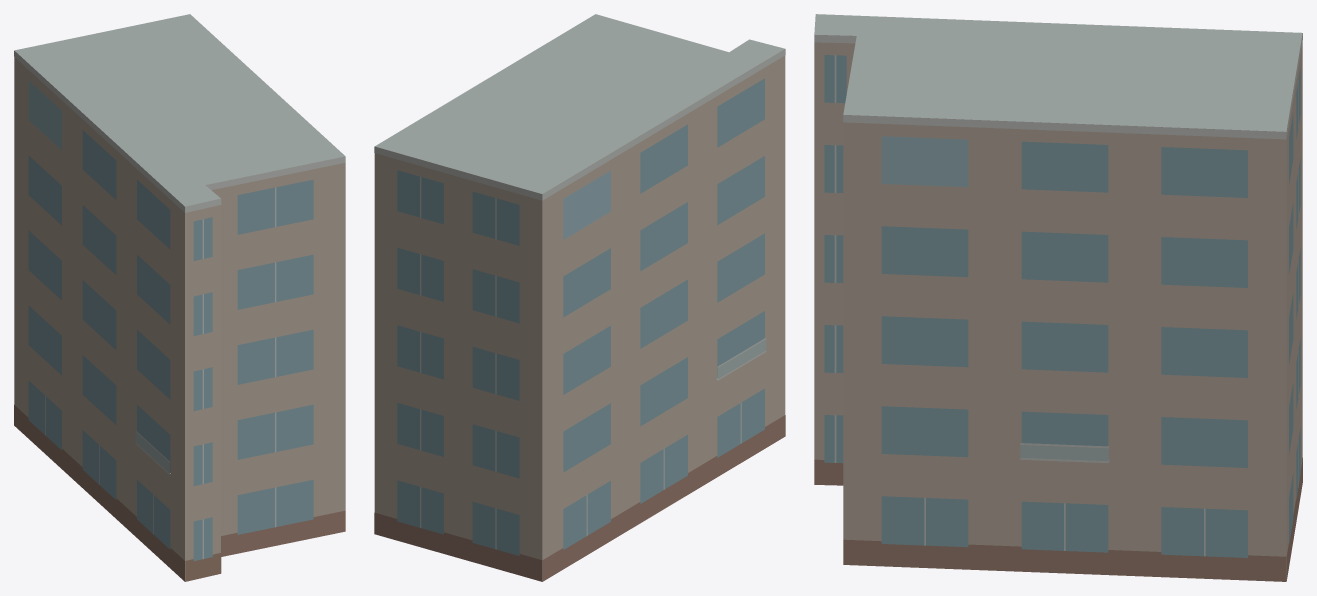
Rendered from survey-upis-32750276.glb.
3 renders of one model, left to right at view 1: azimuth 30°, elevation 25°; view 2: azimuth 150°, elevation 25°; view 3: azimuth 270°, elevation 25°, orthographic. The views are drawn at different scales.
Visible parts, largest first — view 1: survey-upis-32750276.tmp; view 2: survey-upis-32750276.tmp; view 3: survey-upis-32750276.tmp.
Boxes of the visible parts, x1,y1,x2,y2 form: survey-upis-32750276.tmp: (14, 14, 345, 581); survey-upis-32750276.tmp: (374, 14, 785, 581); survey-upis-32750276.tmp: (814, 14, 1302, 581).
Size of the model in its own units: 8.21 by 14.6 by 14.37.
